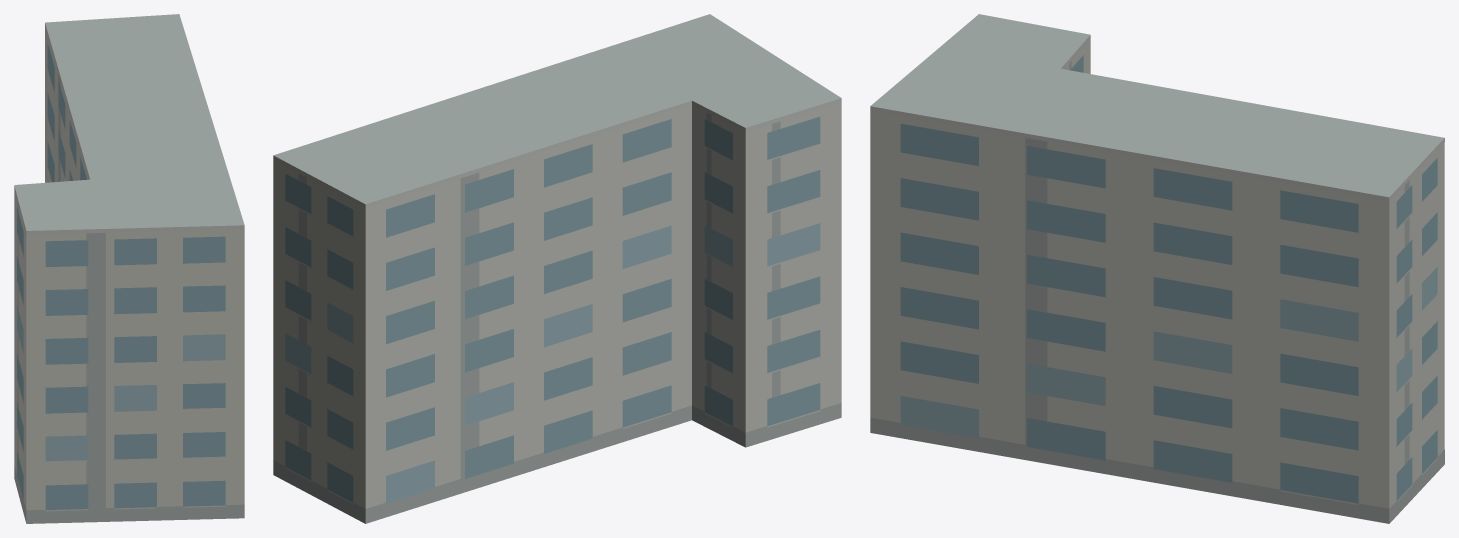
File: survey-upis-32955434.glb
3 renders of one model, left to right at view 1: azimuth 30°, elevation 25°; view 2: azimuth 150°, elevation 25°; view 3: azimuth 270°, elevation 25°, orthographic. The views are drawn at different scales.
Parts seen in each view (by area): view 1: survey-upis-32955434.tmp; view 2: survey-upis-32955434.tmp; view 3: survey-upis-32955434.tmp.
Boxes of the visible parts, bbox=[...] form: survey-upis-32955434.tmp: bbox=[14, 14, 244, 523]; survey-upis-32955434.tmp: bbox=[273, 14, 841, 523]; survey-upis-32955434.tmp: bbox=[870, 14, 1444, 523].
Bounding box in the file's own units: 22.04 × 18.3 × 29.19.
